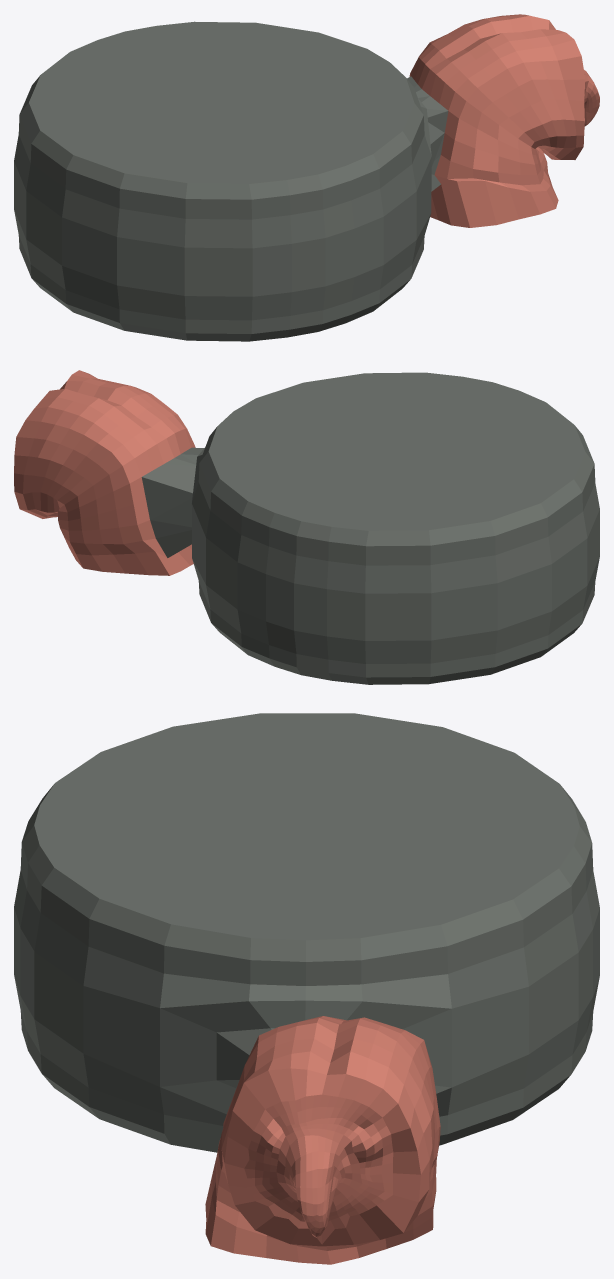
The model's file is owl_head.fbx.
The picture shows the model from 3 angles, top to bottom: view 1: azimuth 30°, elevation 25°; view 2: azimuth 150°, elevation 25°; view 3: azimuth 270°, elevation 25°; orthographic projection. The views are drawn at different scales.
Parts seen in each view (by area): view 1: Cube.001; view 2: Cube.001; view 3: Cube.001.
Boxes of the visible parts, x1,y1,x2,y2 form: Cube.001: (14,14,599,341); Cube.001: (14,370,599,684); Cube.001: (14,713,599,1264).
Bounding box in the file's own units: 1142 × 310 × 747.
